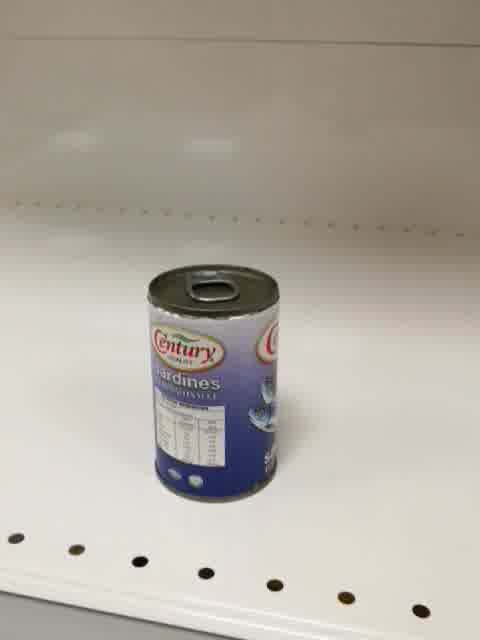sardine: (147, 264, 280, 504)
